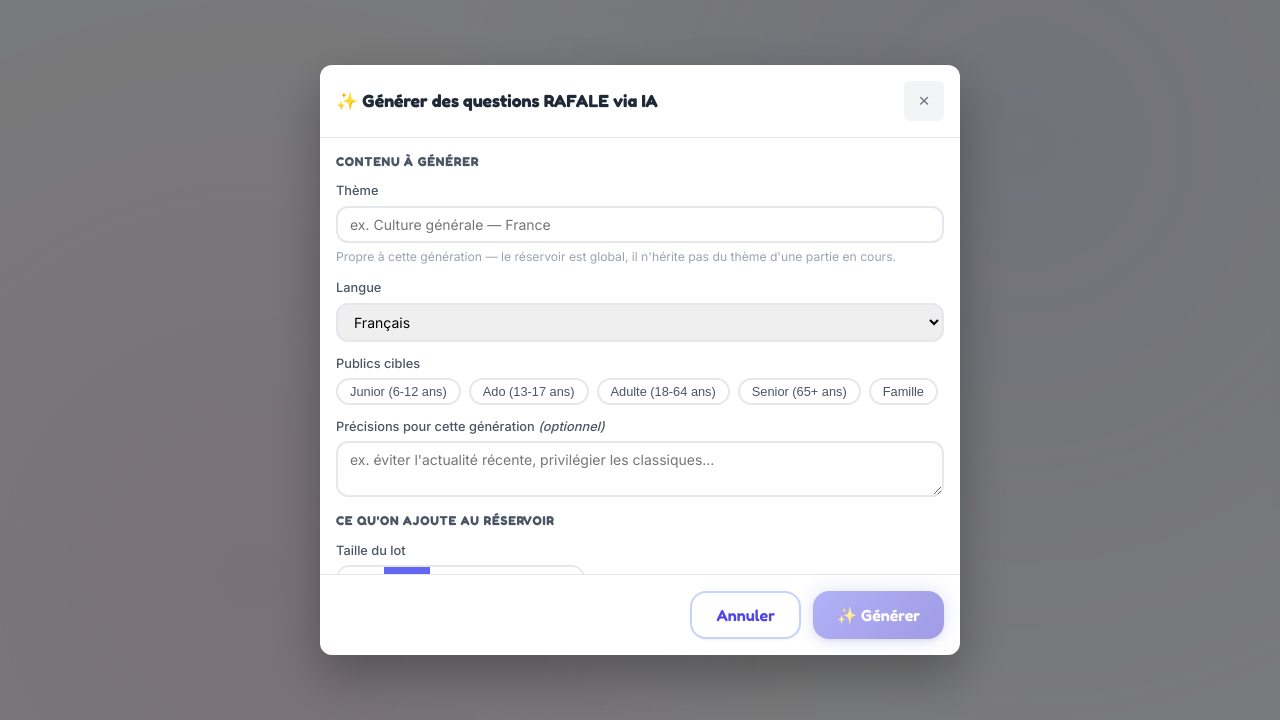
Test: RafaleAIGenerateModal — canSubmit et payload › "✨ Générer" becomes enabled once theme, a population, a category and a difficulty are all set
Step 1. Type "Culture générale" into the field with placeholder "ex. Culture générale — France" → (640, 224), box top-left (336, 206), bottom-right (944, 243)
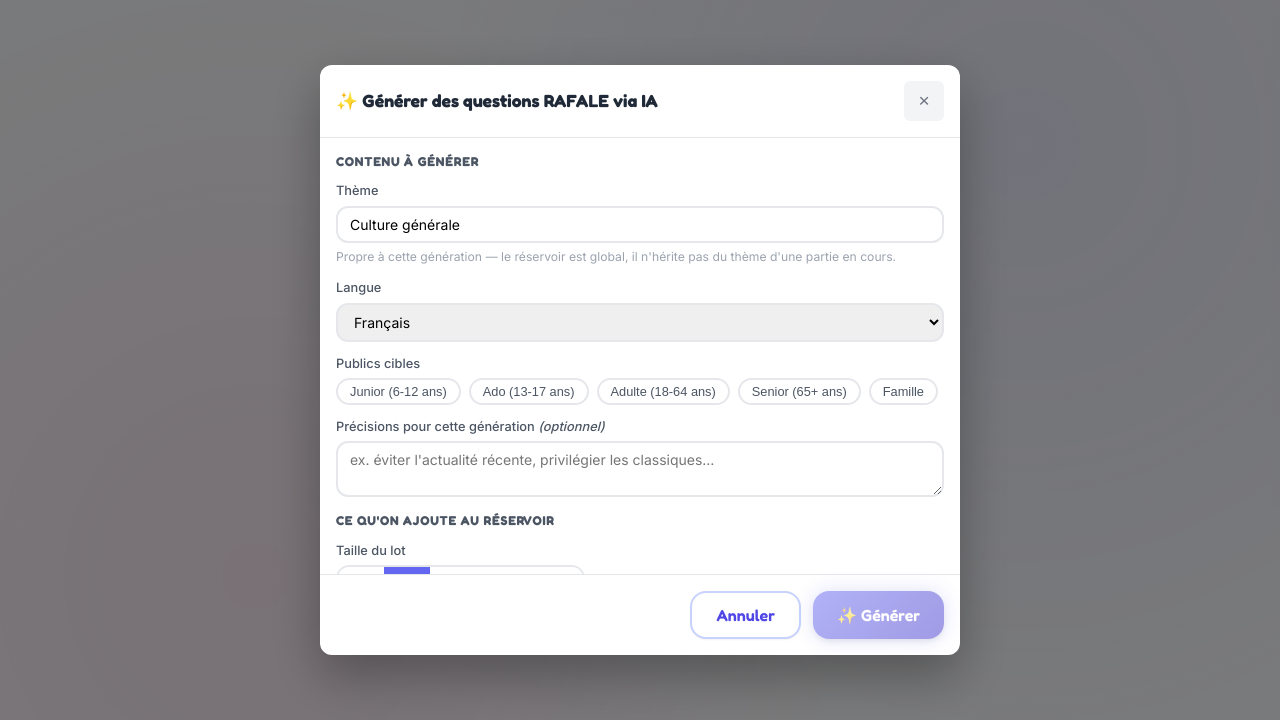
Step 2. Click the button "Adulte (18-64 ans)" → (663, 392), box top-left (596, 378), bottom-right (730, 405)
(page scrolled)
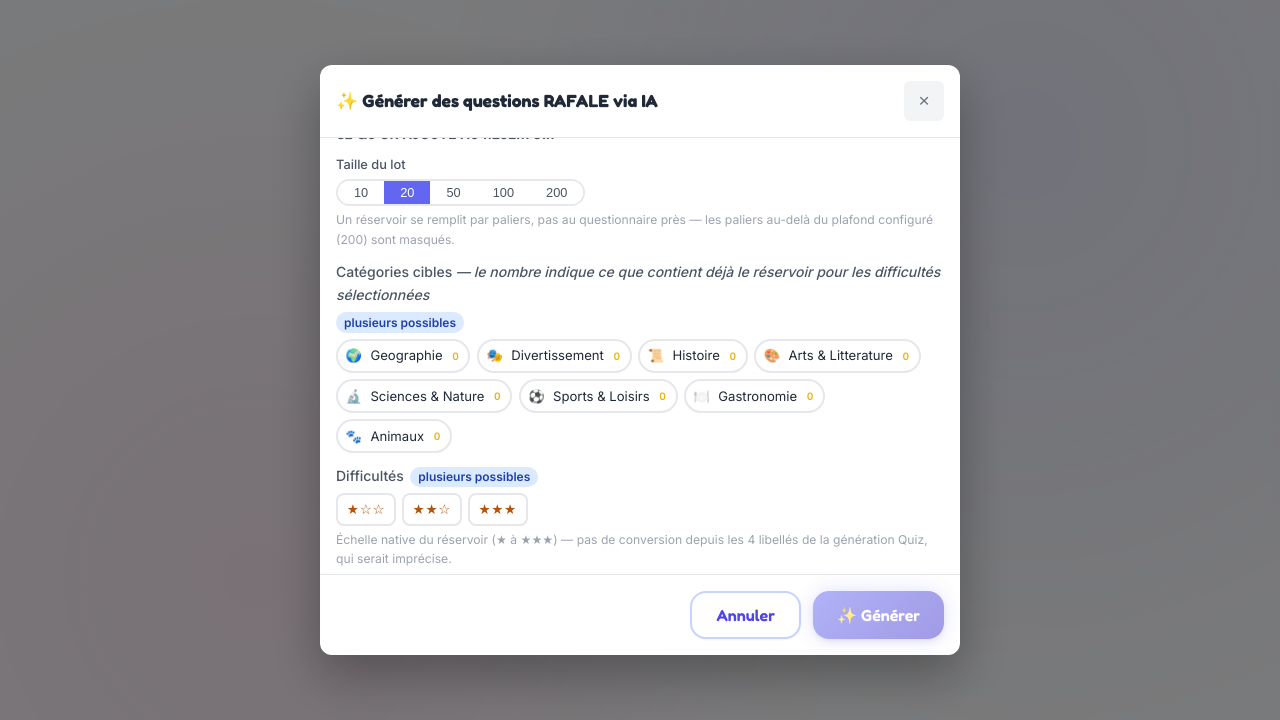
Step 3. Click the text "Histoire" → (696, 356), box top-left (672, 345), bottom-right (720, 366)
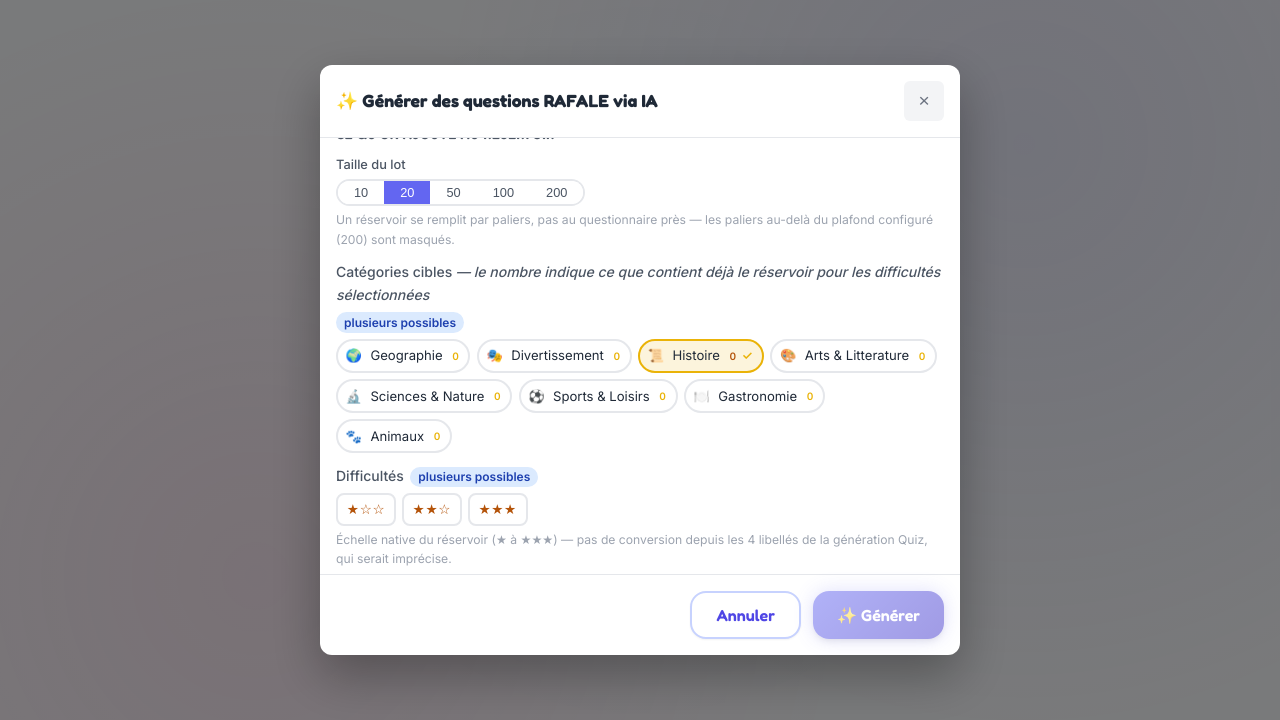
Step 4. Click the button "★☆☆" → (366, 510), box top-left (336, 494), bottom-right (396, 526)
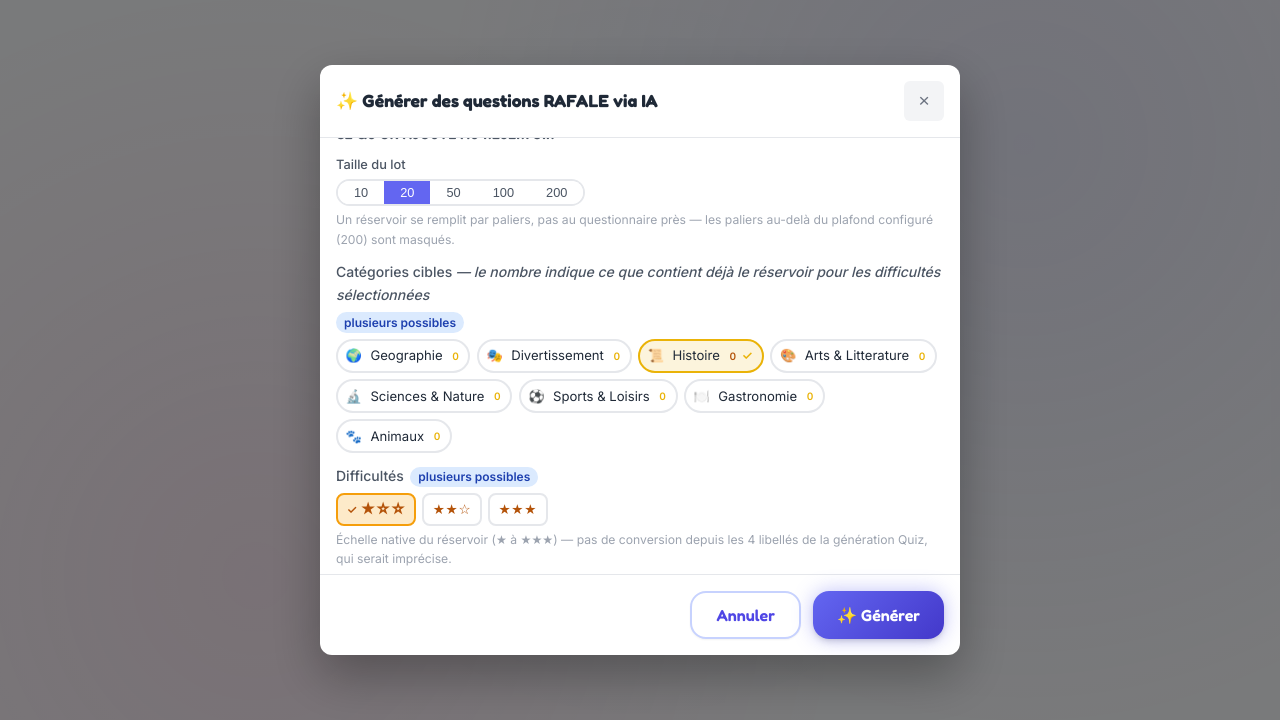
expect the button "✨ Générer" is enabled: met, box top-left (813, 591), bottom-right (944, 639)
